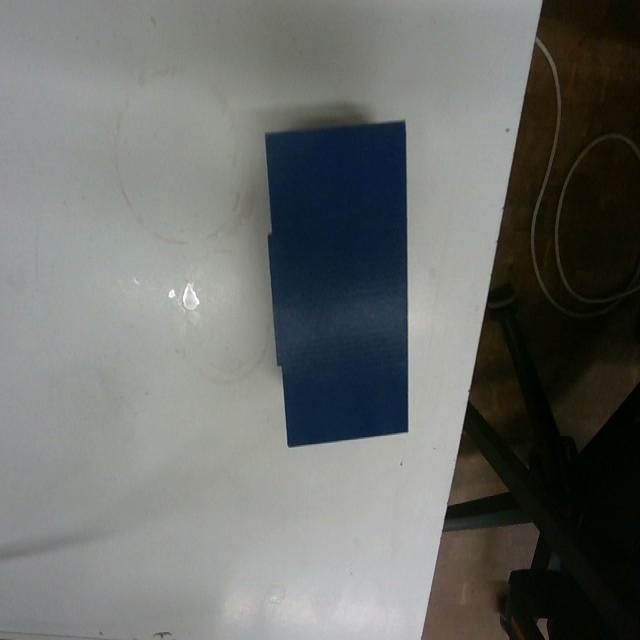Blue Cuboid: (261, 116, 411, 449)
